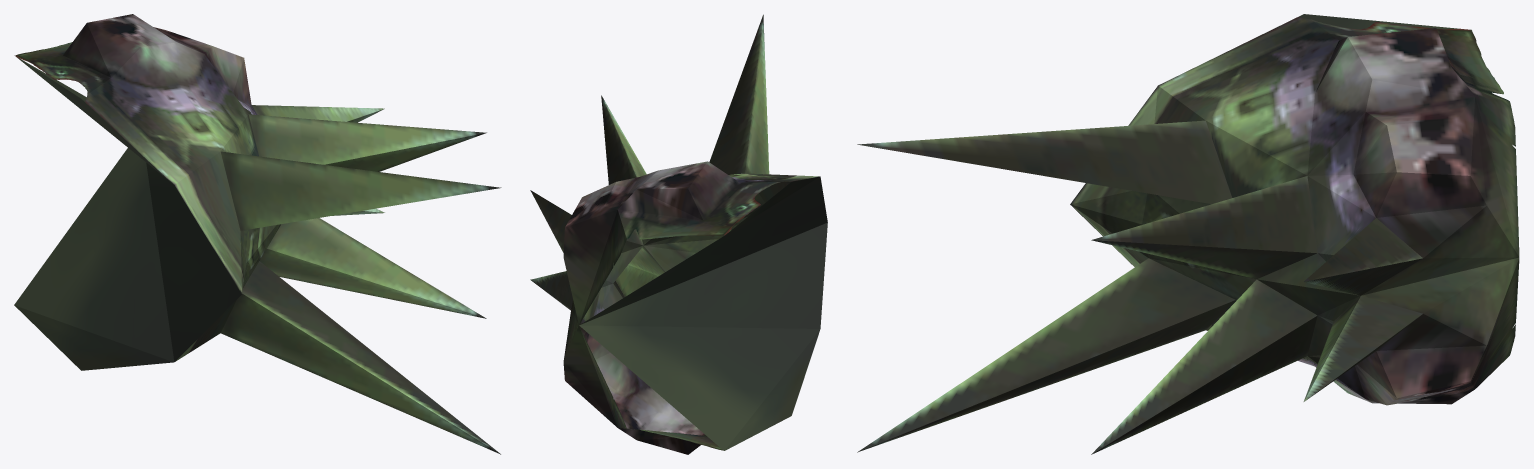
The model's file is common_shoulder_41030.obj.
3 renders of one model, left to right at view 1: azimuth 30°, elevation 25°; view 2: azimuth 150°, elevation 25°; view 3: azimuth 270°, elevation 25°, orthographic. The views are drawn at different scales.
Parts seen in each view (by area): view 1: common_shoulder_41030; view 2: common_shoulder_41030; view 3: common_shoulder_41030.
Boxes of the visible parts, x1,y1,x2,y2 form: common_shoulder_41030: [14, 14, 501, 454]; common_shoulder_41030: [530, 14, 827, 454]; common_shoulder_41030: [857, 14, 1519, 454].
Size of the model in its own units: 13.07 by 12.32 by 20.74.
1 material, 1 textured.
